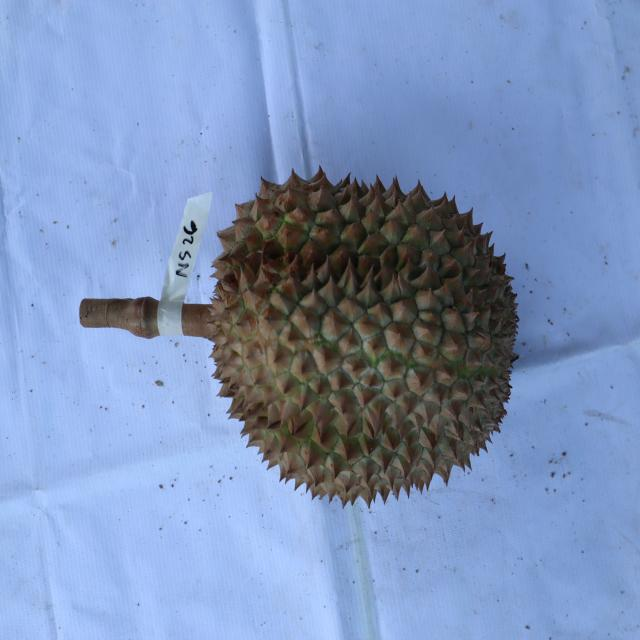mature: (208, 160, 522, 511)
